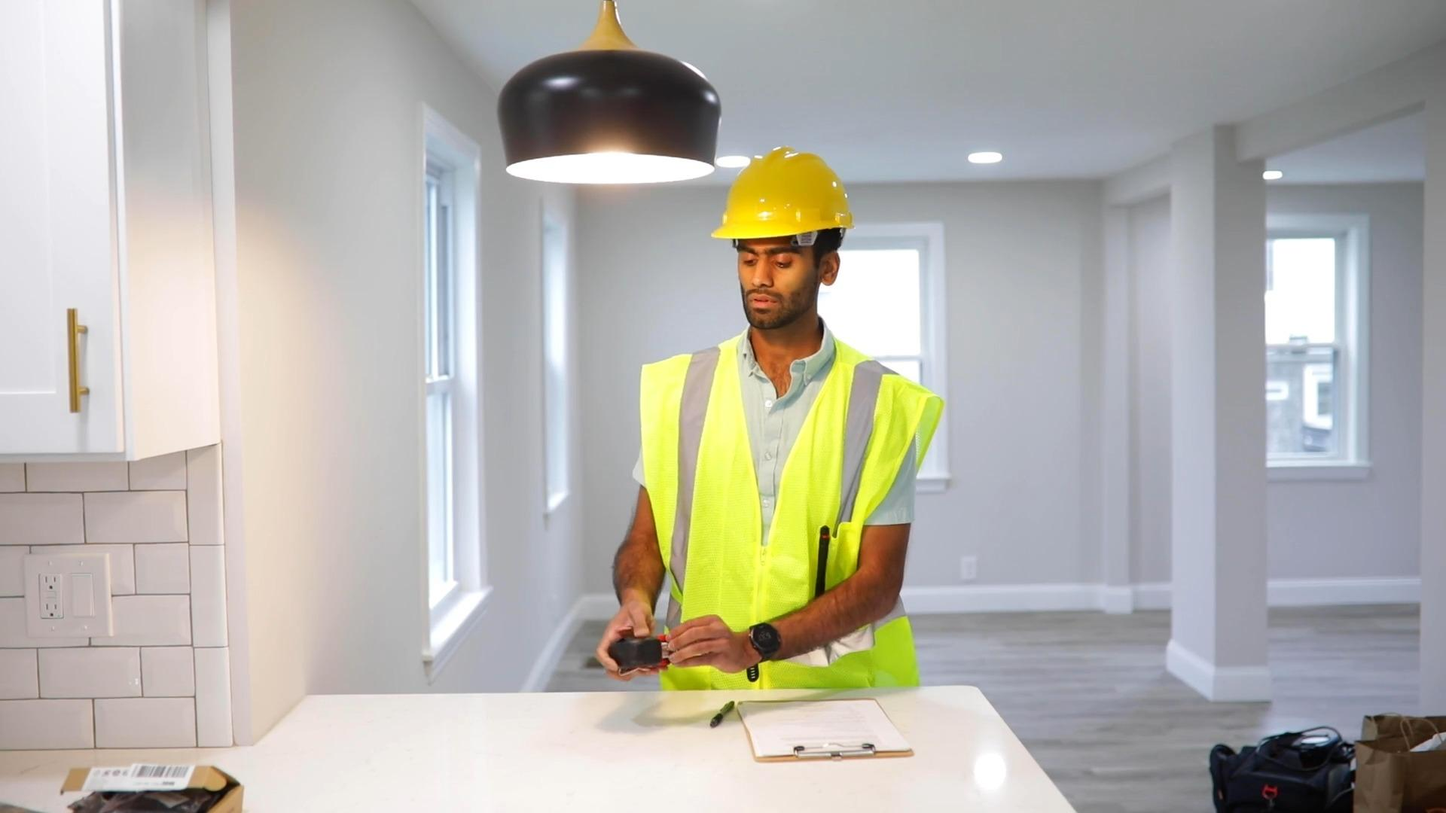Helmet: (725, 140, 852, 236)
Person: (635, 110, 934, 707)
Safety Vest: (664, 353, 904, 676)
bare-arms: (593, 612, 661, 689), (670, 620, 750, 683)
no-boot: (1208, 724, 1356, 811)
